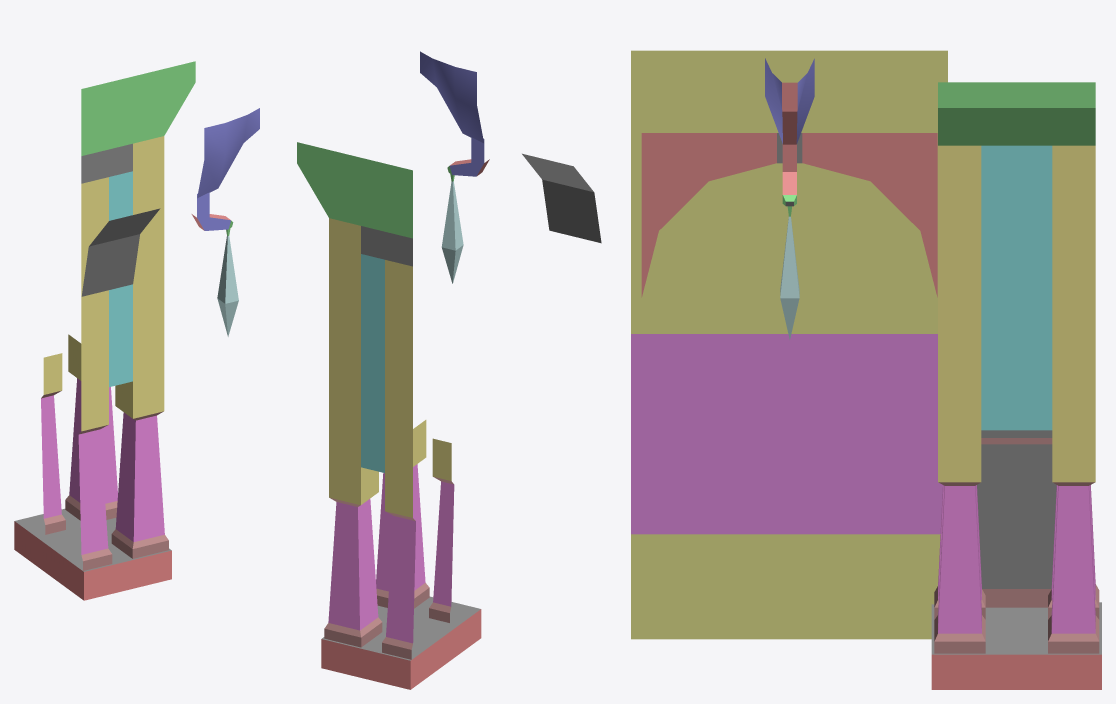
The model's file is SSQ_dungeon_S__SSQ_Room02_wall01.gltf.
The picture shows the model from 3 angles, left to right: view 1: azimuth 30°, elevation 25°; view 2: azimuth 150°, elevation 25°; view 3: azimuth 270°, elevation 25°; orthographic projection. The views are drawn at different scales.
Parts seen in each view (by area): view 1: SSQ_Room02_wall01; view 2: SSQ_Room02_wall01; view 3: SSQ_Room02_wall01.
Part boxes in pixels (x1=…): SSQ_Room02_wall01: x1=14, y1=61, x2=259, y2=600; SSQ_Room02_wall01: x1=297, y1=51, x2=601, y2=689; SSQ_Room02_wall01: x1=631, y1=50, x2=1101, y2=689.
Bounding box in the file's own units: 0.9151 × 3.88 × 2.66.
